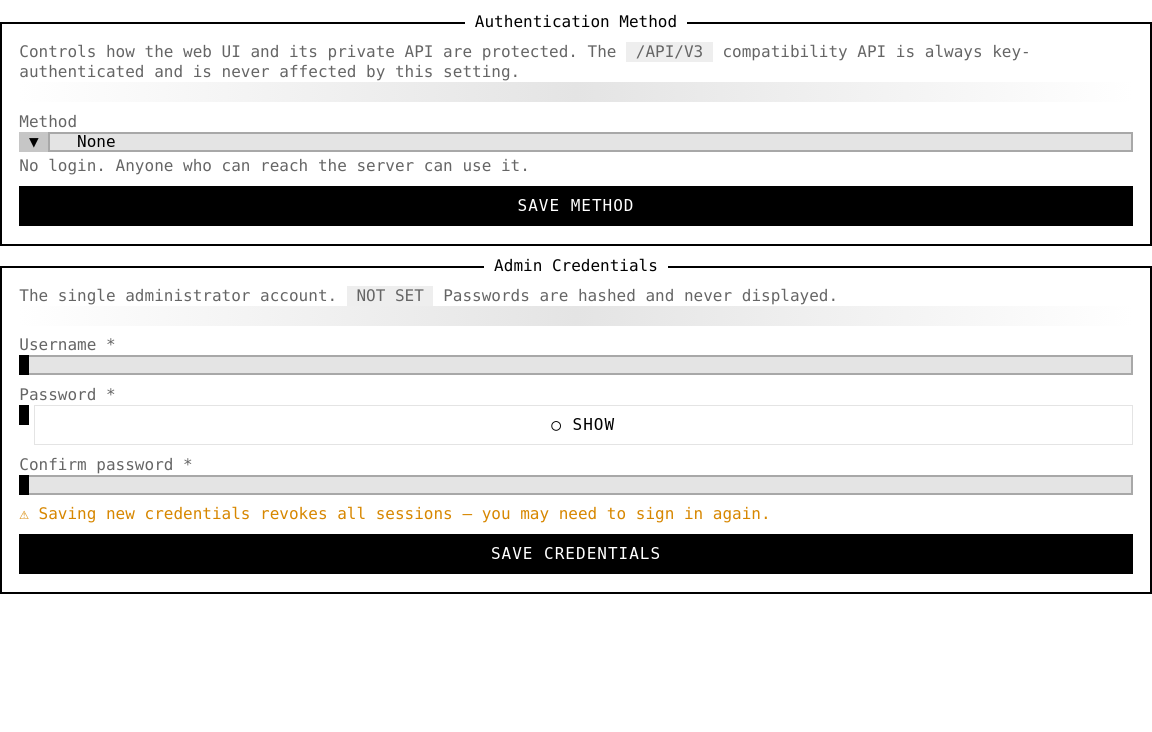
Security (settings) › blocks enabling a method when no credential is configured yet
The width and height of the screenshot is (1152, 732).
Expected: the button "Save method" is shown, x1=19 y1=186 x2=1133 y2=226
Click the button "None". click: (96, 141)
box: x1=48 y1=132 x2=1133 y2=152
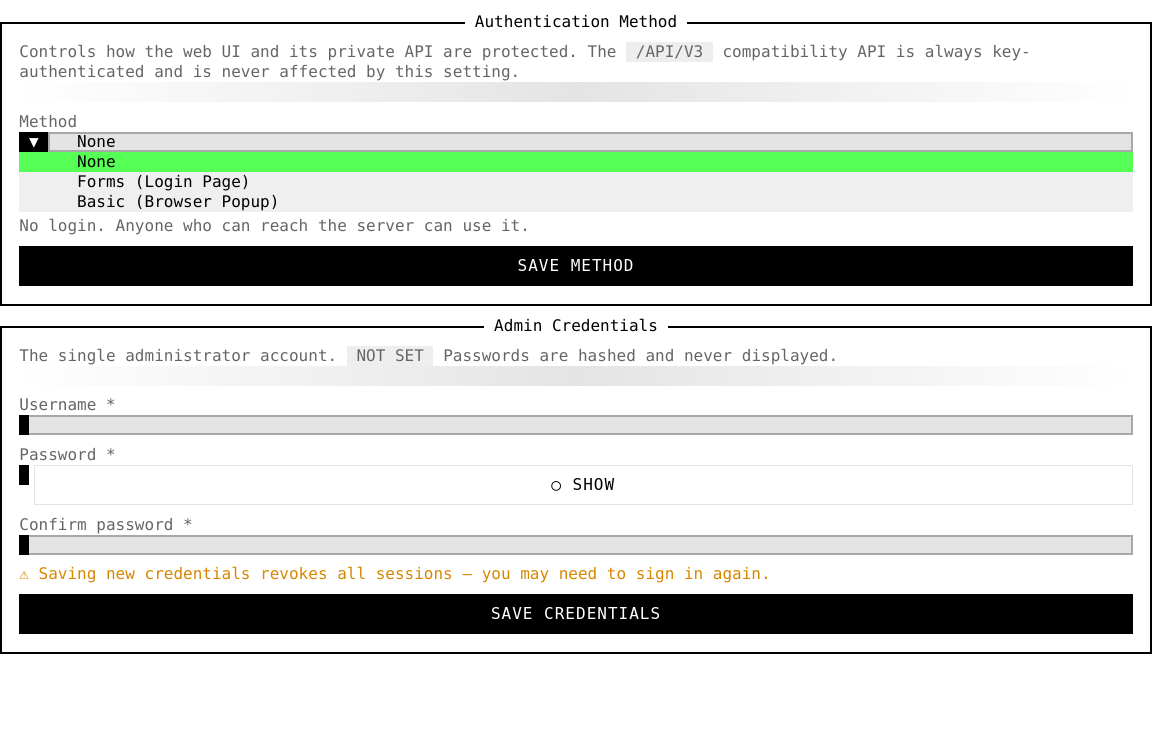
Click the option "Forms (Login Page)". click: (164, 181)
box: x1=77 y1=172 x2=250 y2=191
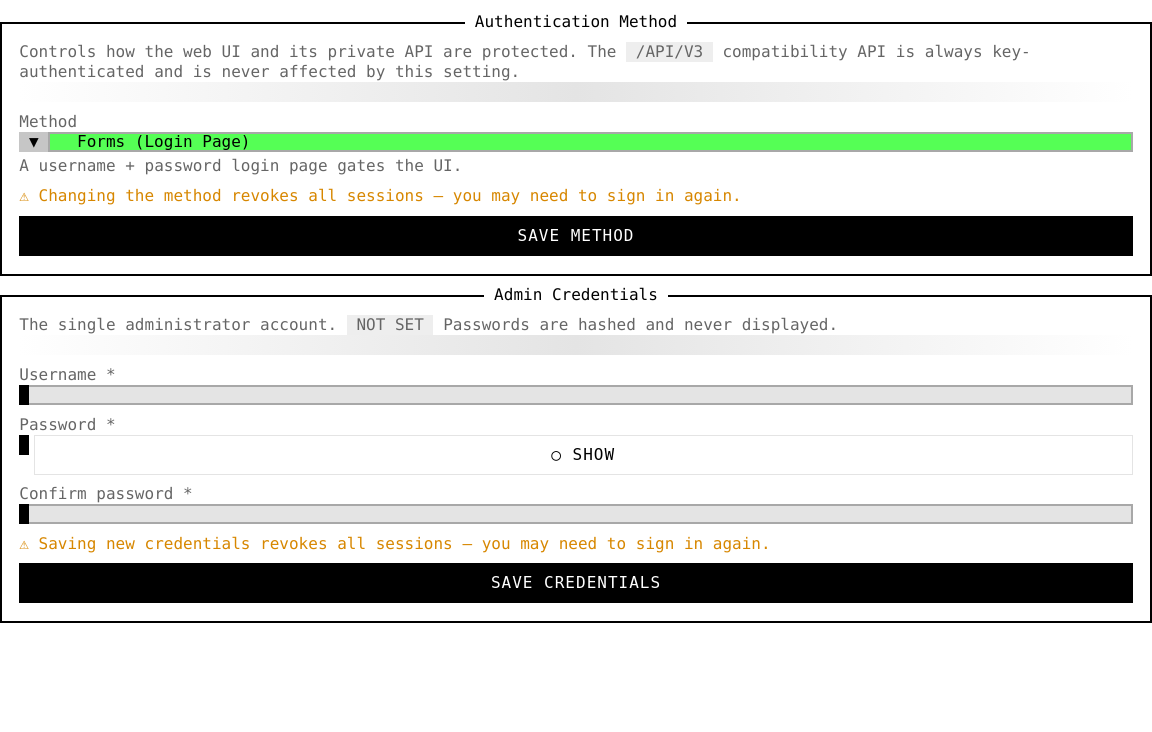
Click the button "Save method". click: (576, 236)
box: x1=19 y1=216 x2=1133 y2=256
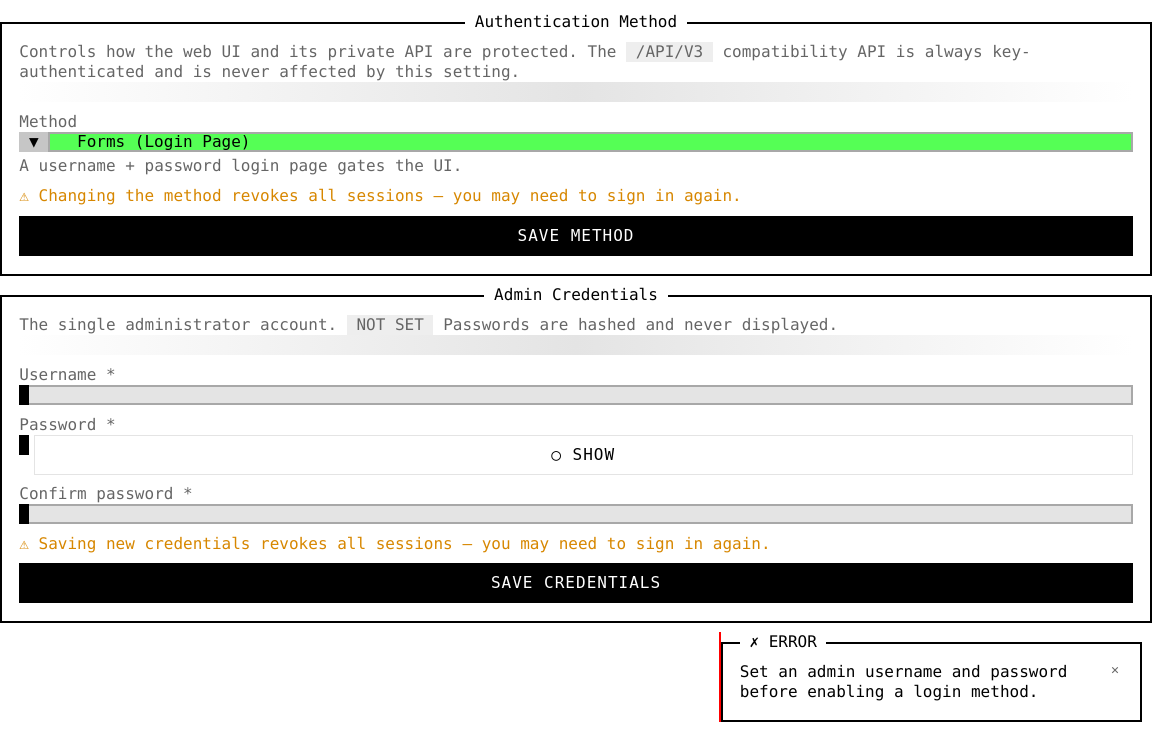
Result: the text "Set an admin username and password before enabling" is shown at x1=740 y1=662 x2=1077 y2=701
